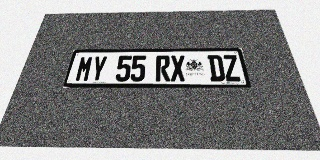5: (115, 56, 132, 82), (130, 55, 146, 82)
D: (207, 55, 226, 81)
M: (74, 56, 94, 82)
R: (156, 55, 170, 82)
X: (170, 55, 186, 81)
Y: (89, 56, 108, 82)
Z: (222, 55, 242, 81)
